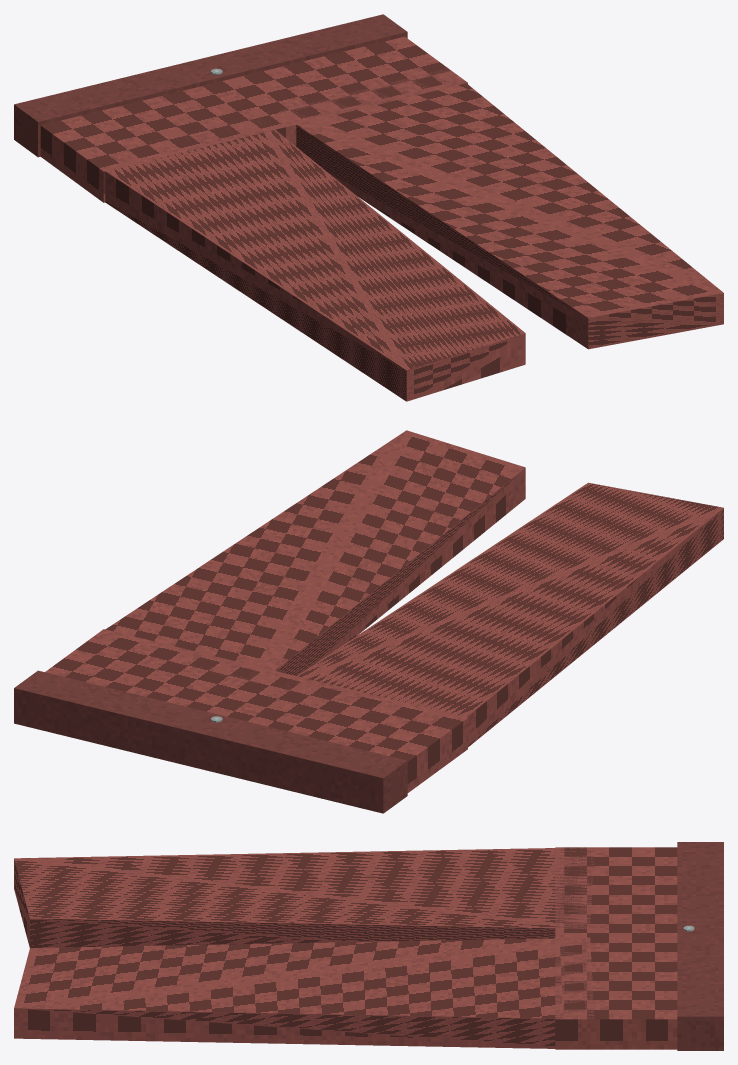
The model's file is pants_checkered.glb.
3 renders of one model, top to bottom at view 1: azimuth 30°, elevation 25°; view 2: azimuth 150°, elevation 25°; view 3: azimuth 270°, elevation 25°, orthographic. The views are drawn at different scales.
Visible parts, largest first — view 1: block_leg 1, block_leg -1, block_seat, block_waistband; view 2: block_leg -1, block_leg 1, block_seat, block_waistband; view 3: block_leg 1, block_leg -1, block_seat, block_waistband.
Boxes of the visible parts, x1,y1,x2,y2 form: block_leg 1: (278, 68, 723, 349); block_leg -1: (86, 118, 525, 401); block_seat: (40, 36, 467, 202); block_waistband: (14, 14, 407, 157); block_leg -1: (278, 482, 723, 747); block_leg 1: (105, 430, 525, 683); block_seat: (45, 629, 467, 792); block_waistband: (14, 670, 407, 813); block_leg 1: (14, 937, 593, 1048); block_leg -1: (14, 847, 594, 947); block_seat: (555, 847, 677, 1049); block_waistband: (677, 842, 723, 1050).
Bounding box in the file's own units: 0.284 × 0.027 × 0.488.
Materials: 1 (1 with a texture image).
